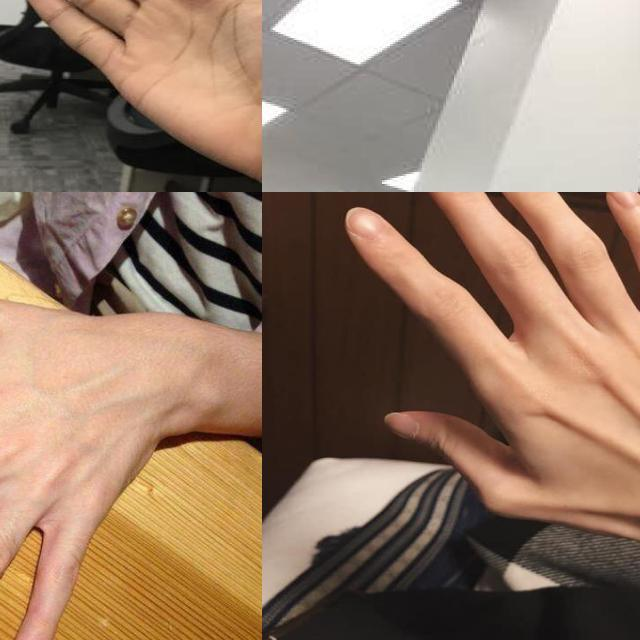hand: (342, 192, 640, 584), (0, 281, 233, 640), (14, 0, 262, 192)
